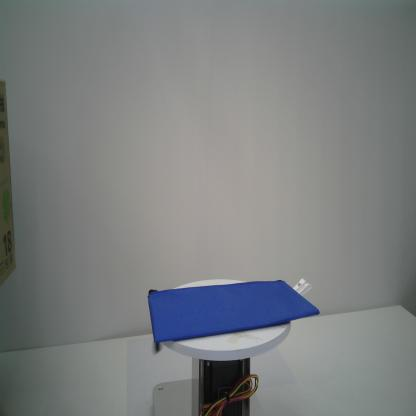Stationery: (145, 277, 322, 356)
